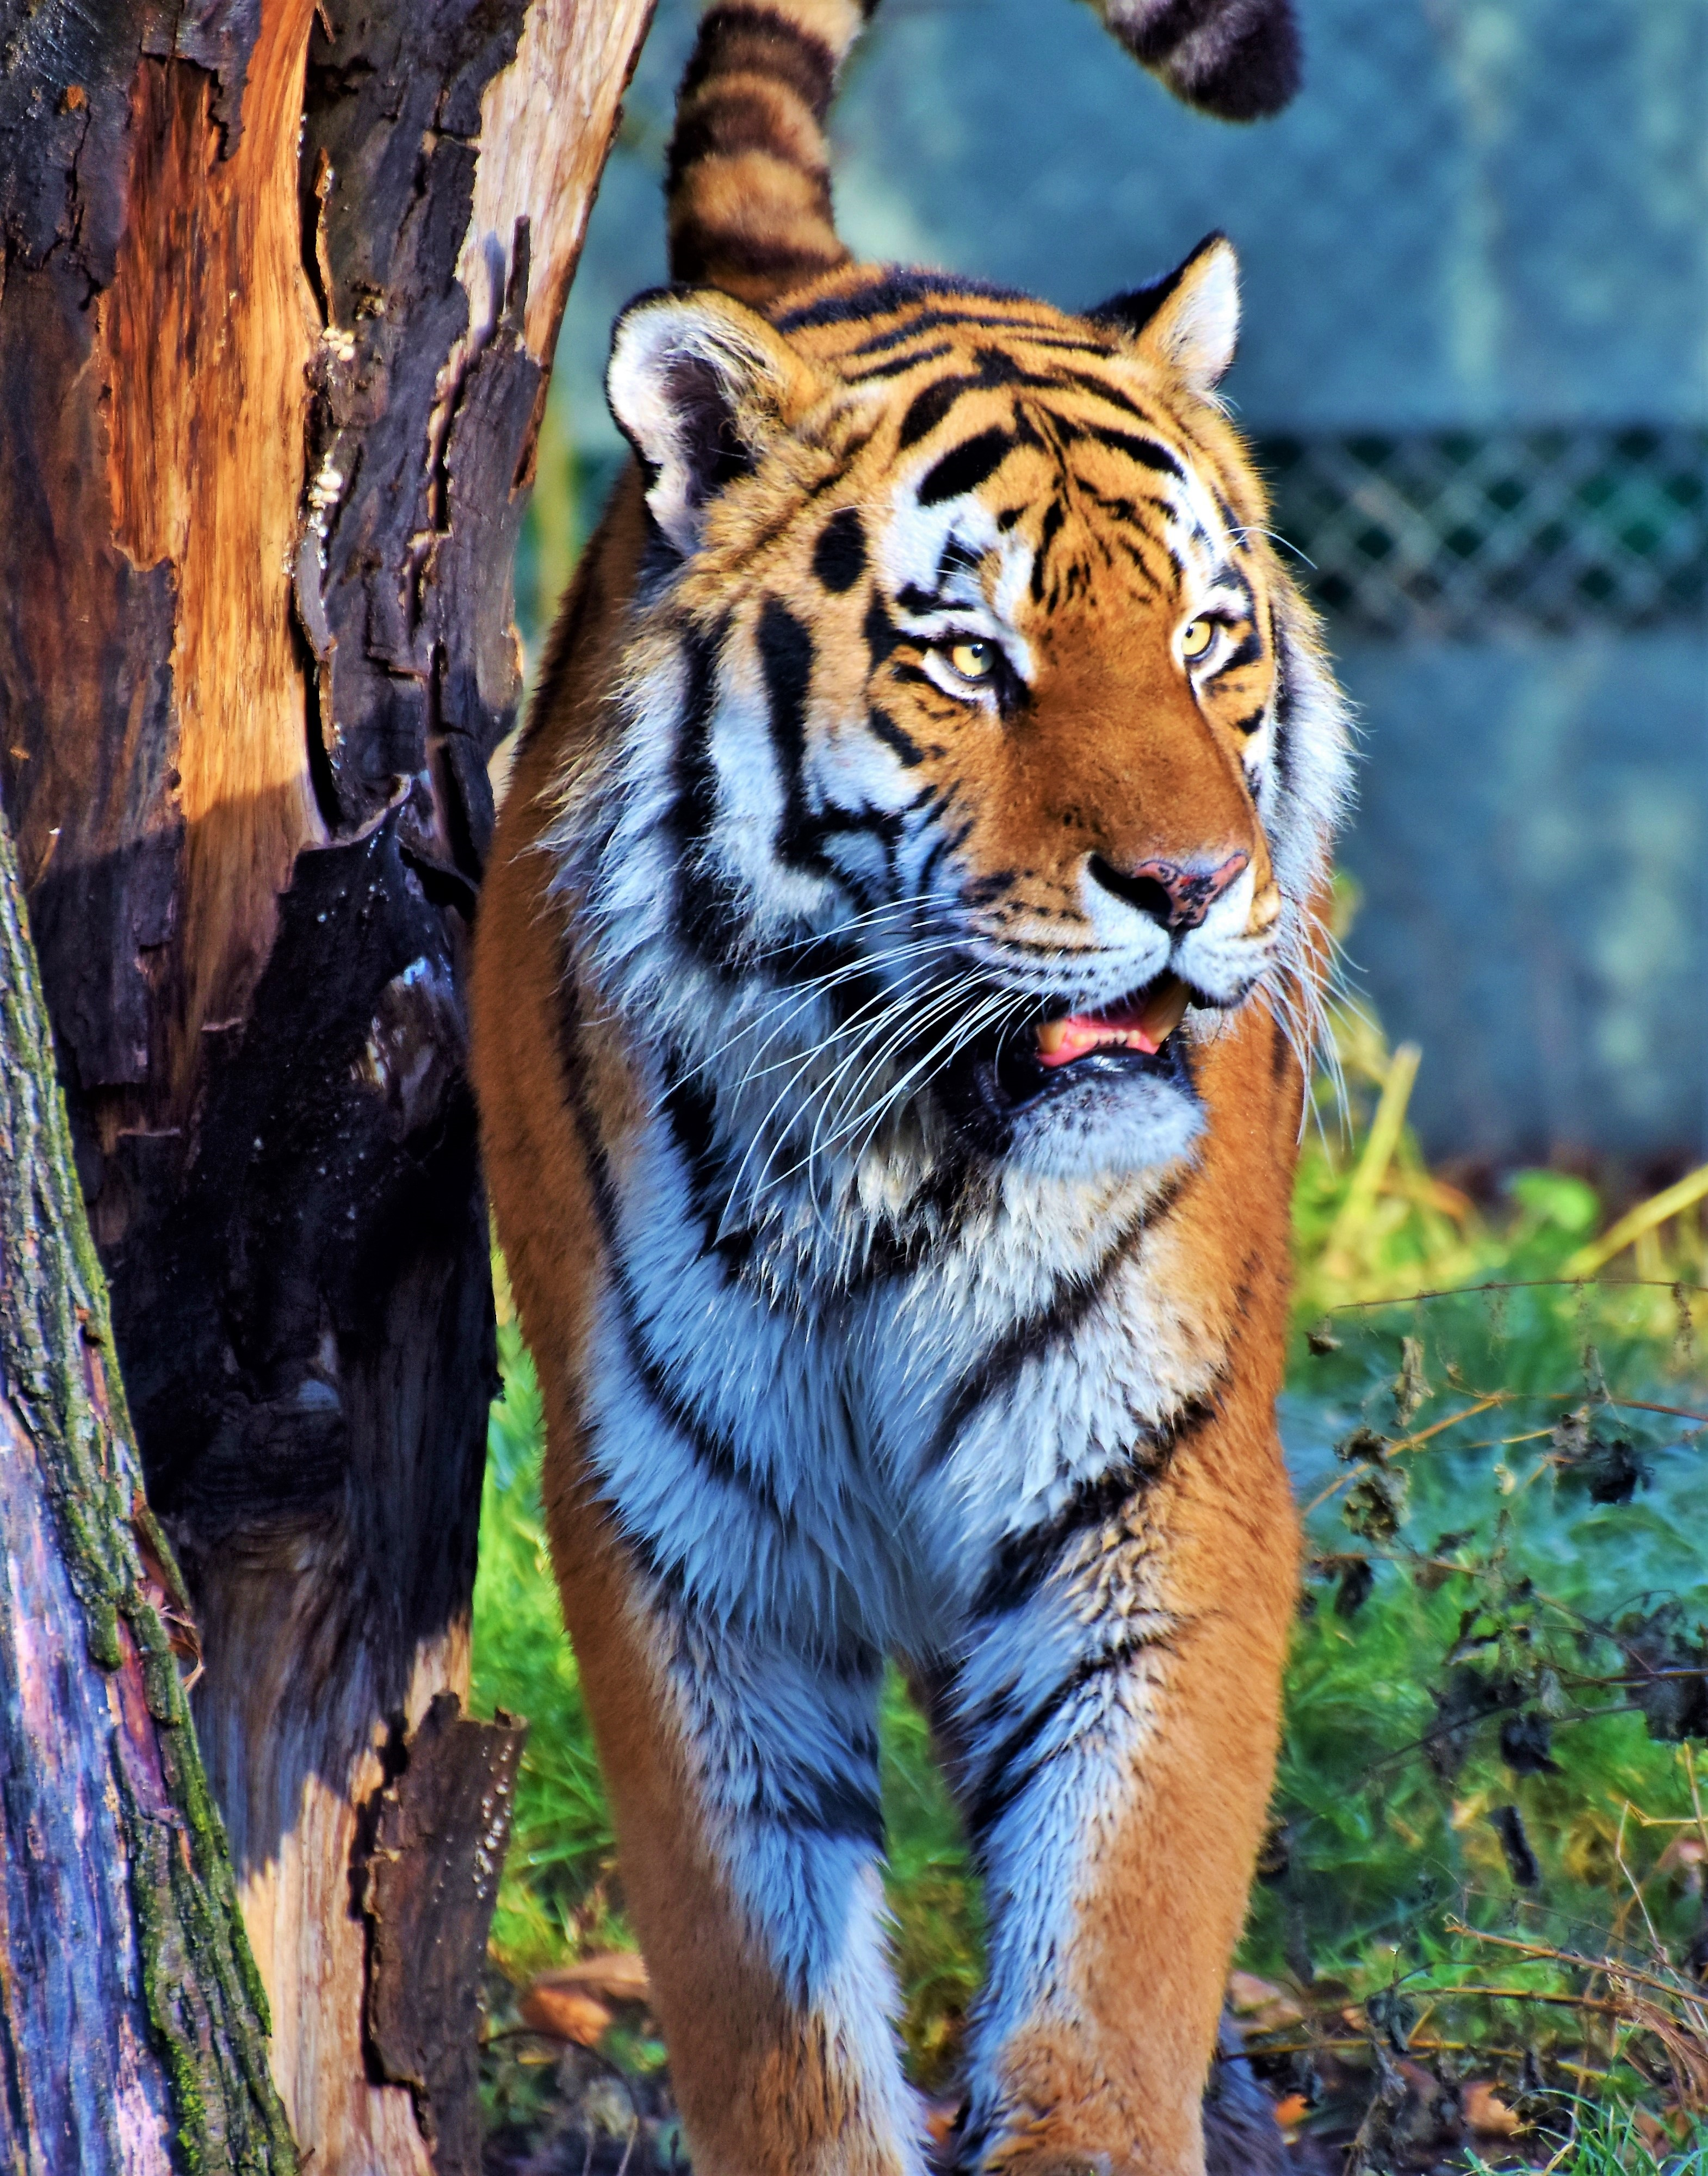tiger: (463, 231, 1445, 2097)
